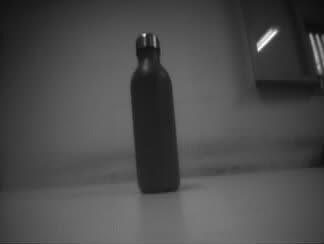Bottle: (130, 33, 181, 193)
